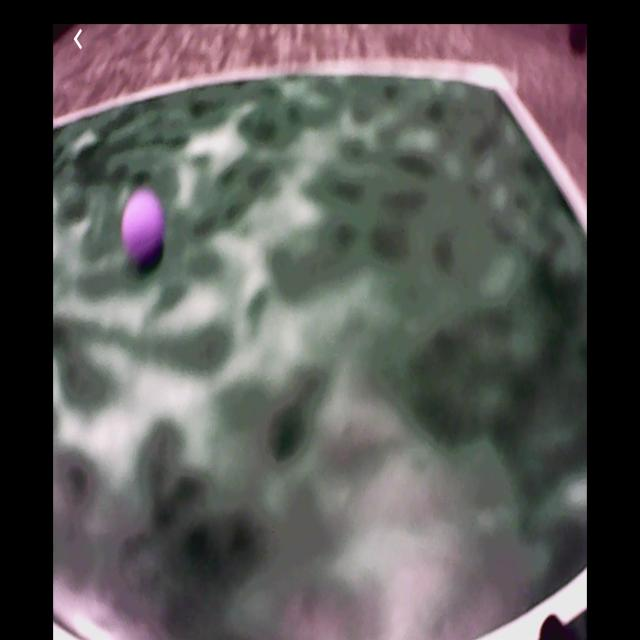ball: (123, 190, 165, 259)
